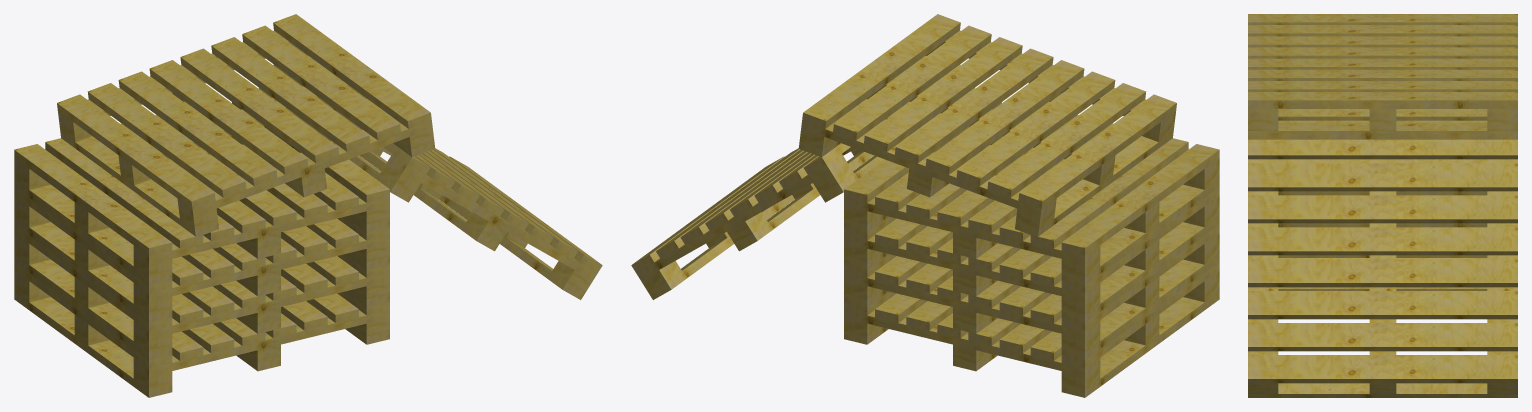
The model's file is pallets.dae.
The picture shows the model from 3 angles, left to right: view 1: azimuth 30°, elevation 25°; view 2: azimuth 150°, elevation 25°; view 3: azimuth 270°, elevation 25°; orthographic projection.
Visible parts, largest first — view 1: group_11 (×6), group_9 (×6), group_3 (×6), group_4 (×5), group_8 (×6), group_7 (×6), group_1 (×6), group_2 (×4), group_6 (×3), group_5 (×3), group_10 (×5), group_12 (×5) (+2 smaller); view 2: group_10 (×6), group_9 (×6), group_3 (×6), group_4 (×5), group_8 (×6), group_7 (×6), group_1 (×6), group_2 (×4), group_6 (×3), group_5 (×3), group_11 (×5), group_12 (×5) (+2 smaller); view 3: group_8 (×4), group_6 (×4), group_7 (×3), group_1 (×2), group_2 (×2), group_4 (×2), group_5 (×2), group_3 (×2), group_14 (×4), group_10 (×2), group_11 (×2), group_12 (×2) (+2 smaller).
Part boxes in pixels (x1,y1,x2,y2): group_11 (×6): (133, 118, 597, 389); group_9 (×6): (14, 88, 413, 397); group_3 (×6): (14, 64, 430, 368); group_4 (×5): (45, 83, 246, 360); group_8 (×6): (211, 37, 553, 330); group_7 (×6): (242, 25, 577, 322); group_1 (×6): (120, 60, 504, 345); group_2 (×4): (118, 71, 277, 353); group_6 (×3): (232, 14, 602, 272); group_5 (×3): (155, 48, 528, 230); group_10 (×5): (14, 30, 308, 302); group_12 (×5): (74, 75, 366, 345); group_10 (×6): (636, 118, 1100, 389); group_9 (×6): (820, 88, 1219, 397); group_3 (×6): (803, 64, 1219, 368); group_4 (×5): (987, 83, 1188, 360); group_8 (×6): (680, 37, 1022, 330); group_7 (×6): (656, 25, 991, 322); group_1 (×6): (729, 60, 1113, 345); group_2 (×4): (956, 71, 1115, 353); group_6 (×3): (631, 14, 1001, 272); group_5 (×3): (705, 48, 1078, 230); group_11 (×5): (926, 30, 1219, 302); group_12 (×5): (867, 75, 1159, 345); group_8 (×4): (1248, 69, 1517, 319); group_6 (×4): (1248, 92, 1517, 383); group_7 (×3): (1248, 81, 1517, 351); group_1 (×2): (1248, 47, 1517, 255); group_2 (×2): (1248, 36, 1517, 223); group_4 (×2): (1248, 25, 1517, 191); group_5 (×2): (1248, 58, 1517, 287); group_3 (×2): (1248, 14, 1517, 159); group_14 (×4): (1248, 122, 1517, 397); group_10 (×2): (1487, 109, 1517, 393); group_11 (×2): (1248, 109, 1278, 393); group_12 (×2): (1369, 109, 1396, 393).
Bounding box in the file's own units: 115 × 59.06 × 54.22.
